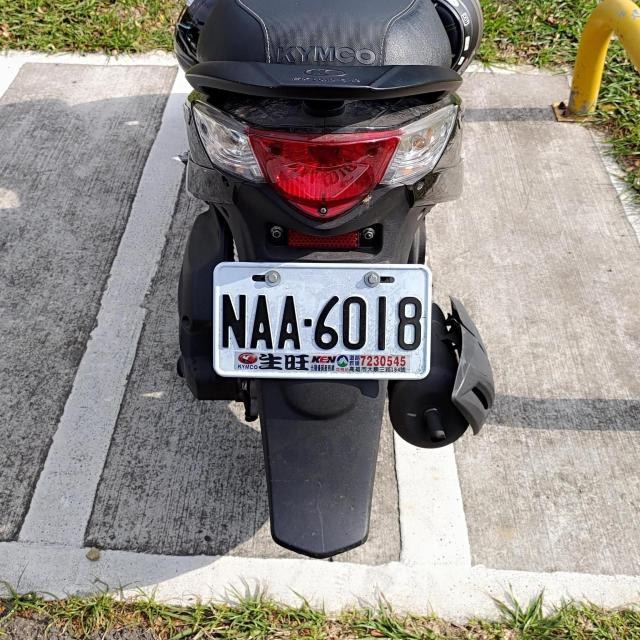W: (212, 261, 432, 381)
